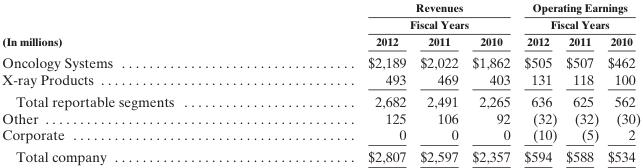table: (1, 0, 640, 164)
table column: (1, 0, 270, 164), (270, 0, 412, 164), (412, 0, 464, 164), (464, 0, 516, 164), (516, 0, 560, 164), (560, 0, 602, 164), (602, 0, 640, 164)
table column header: (1, 0, 640, 50)
table row: (1, 0, 640, 32), (1, 50, 640, 70), (1, 89, 640, 109), (1, 70, 640, 89), (1, 126, 640, 145), (1, 145, 640, 164), (1, 32, 640, 50), (1, 109, 640, 126)
table spanning cell: (1, 0, 270, 50), (270, 0, 516, 32), (516, 0, 640, 32)
